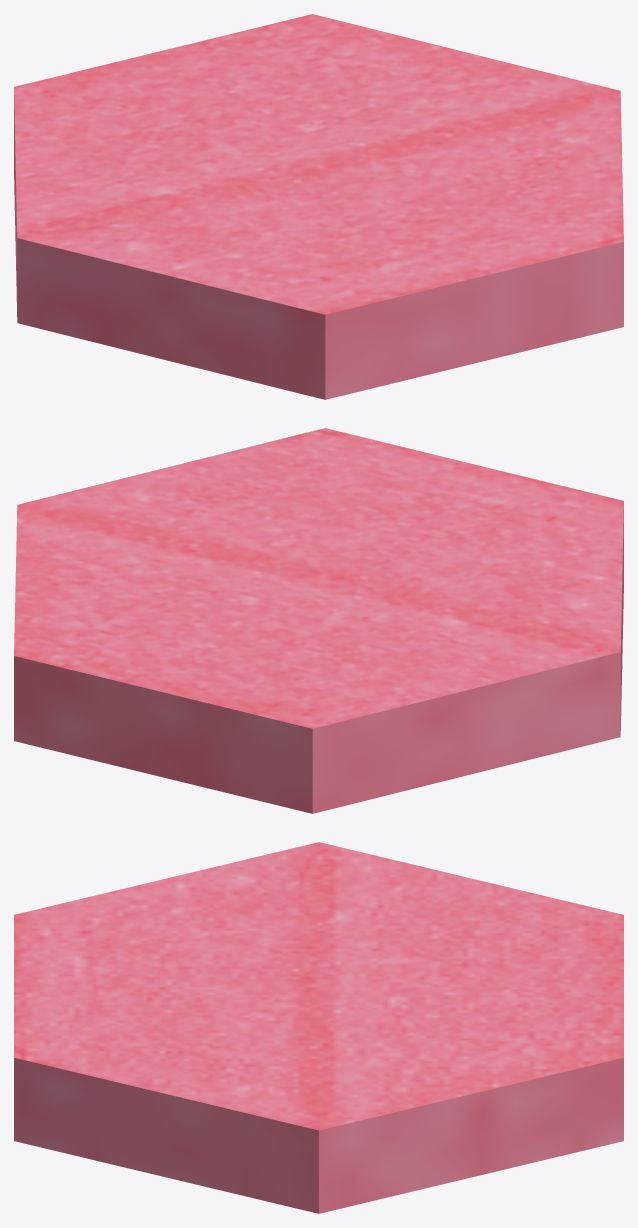
3 views of the same model, one above another, from view 1: azimuth 30°, elevation 25°; view 2: azimuth 150°, elevation 25°; view 3: azimuth 270°, elevation 25° (orthographic). The views are drawn at different scales.
Visible parts, largest first — view 1: 平面; view 2: 平面; view 3: 平面.
Part boxes in pixels (x1,y1,x2,y2): 平面: (14, 14, 623, 399); 平面: (14, 428, 623, 813); 平面: (14, 842, 623, 1213).
Bounding box in the file's own units: 0.6009 × 0.081 × 0.537.
Materials: 1 (1 with a texture image).
